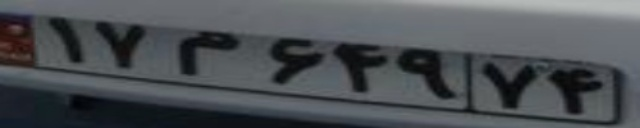1: (45, 16, 83, 63)
4: (331, 43, 389, 93), (548, 66, 604, 112)
6: (266, 36, 325, 85)
7: (479, 62, 539, 109), (93, 21, 146, 69)
9: (395, 48, 457, 98)
lam: (176, 30, 241, 76)
